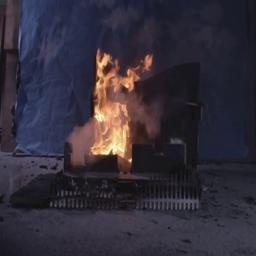fire: (81, 46, 161, 170)
